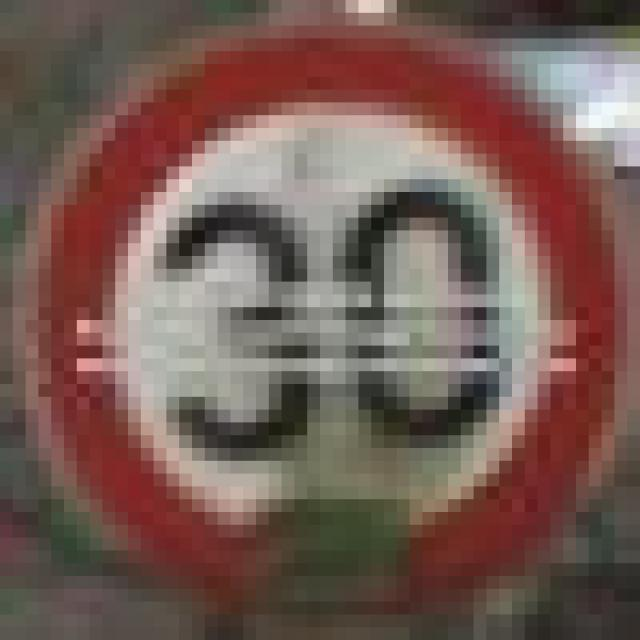SPEED_LIMIT_30: (0, 0, 627, 602)
